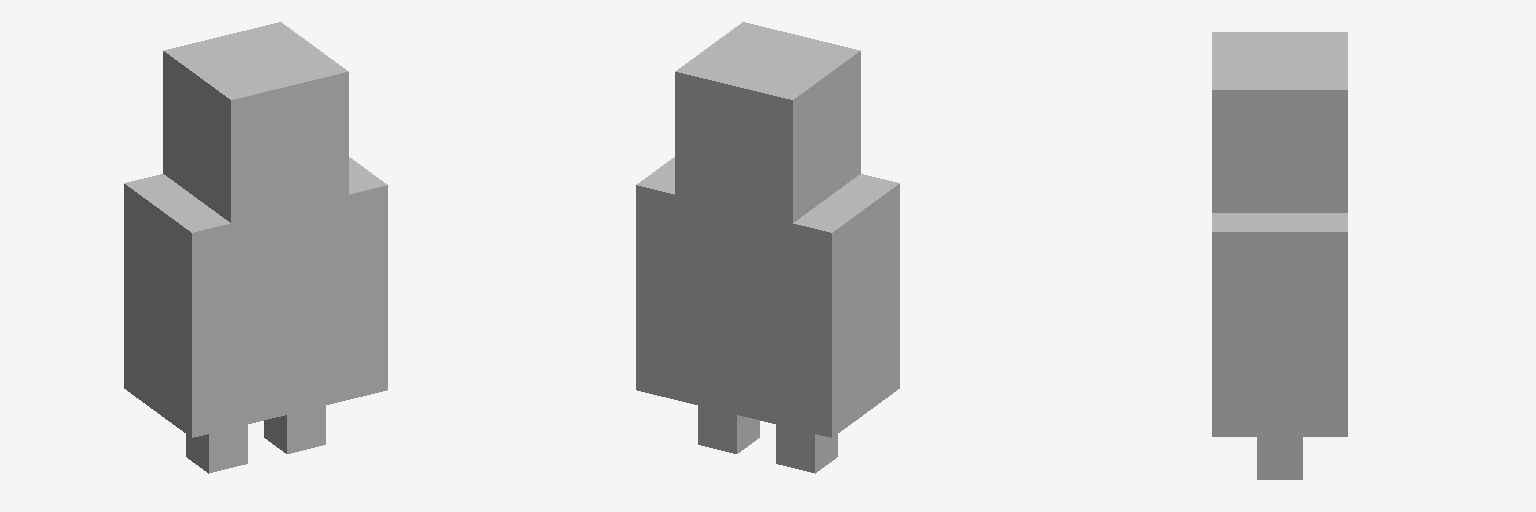
Rendered from chef.obj.
The picture shows the model from 3 angles: view 1: azimuth 30°, elevation 25°; view 2: azimuth 150°, elevation 25°; view 3: azimuth 270°, elevation 25°; orthographic projection.
Visible parts, largest first — view 1: chef; view 2: chef; view 3: chef.
Part boxes in pixels (bbox=[...]): chef: bbox=[124, 22, 387, 473]; chef: bbox=[636, 22, 899, 473]; chef: bbox=[1212, 32, 1347, 479].
Size of the model in its own units: 10 by 19 by 6.